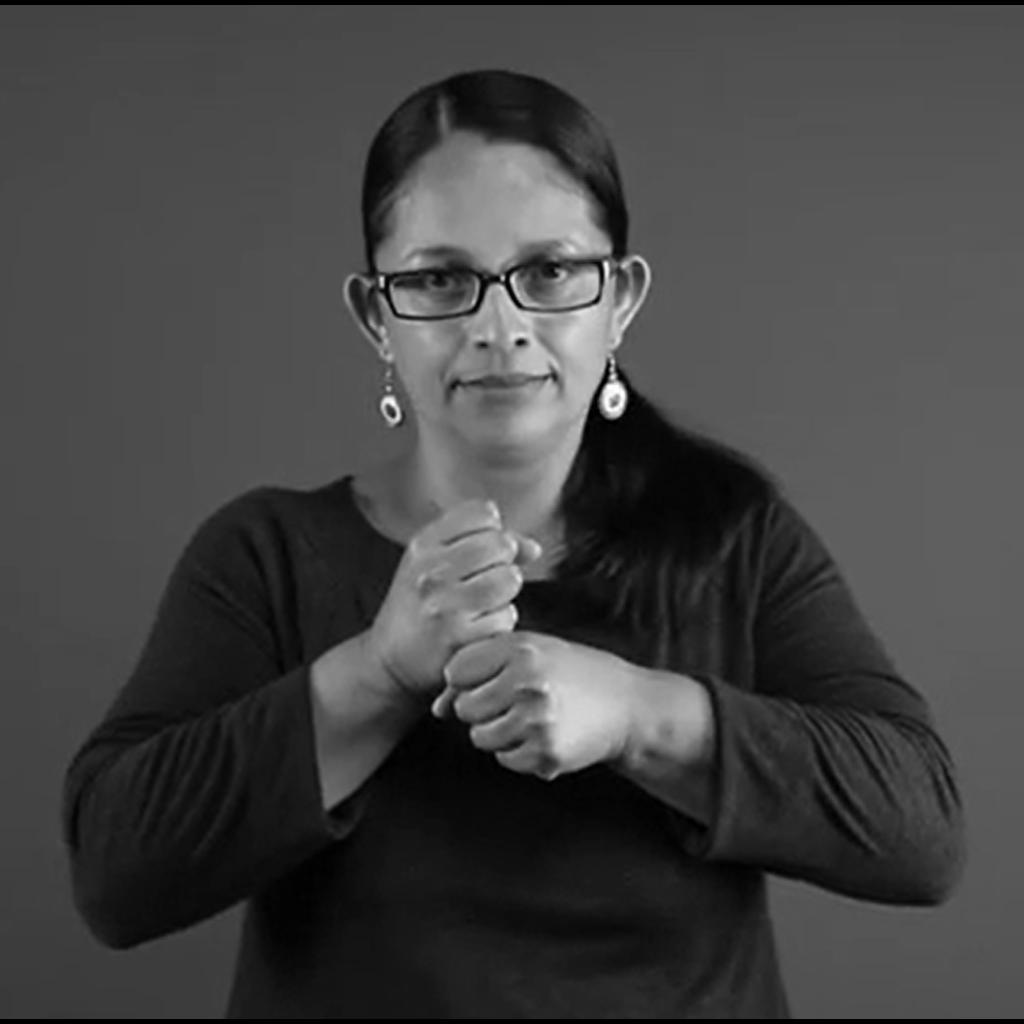get: (376, 502, 630, 780)
